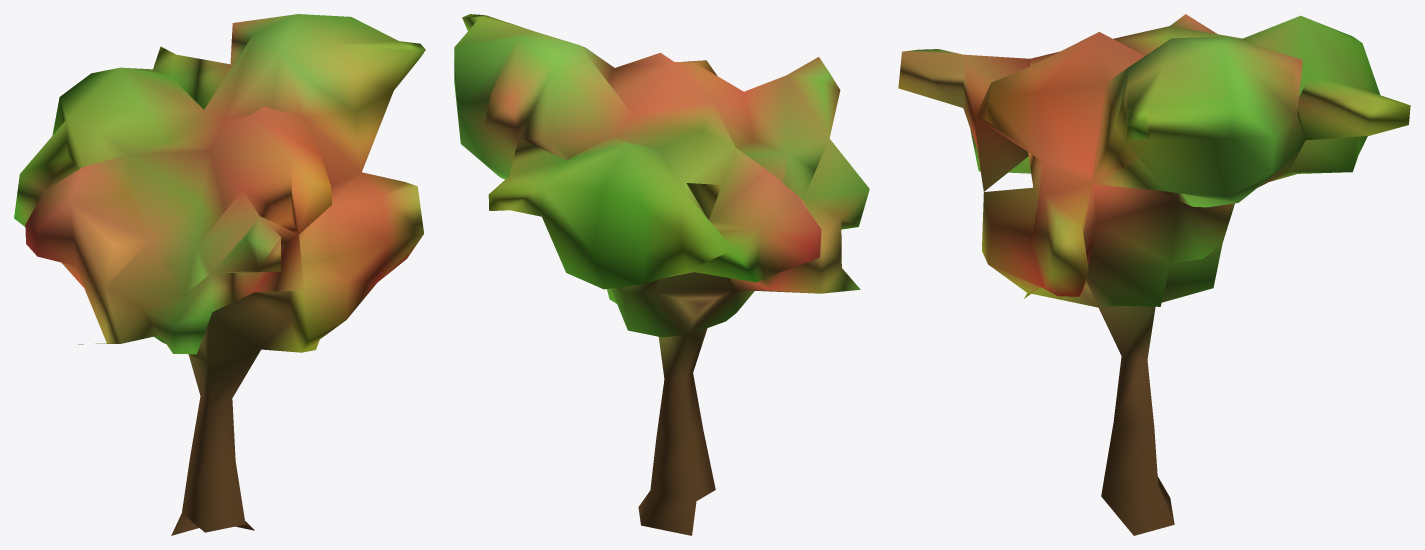
The model's file is canopy-tree-109-lod3.obj.
3 views of the same model, side by side, from view 1: azimuth 30°, elevation 25°; view 2: azimuth 150°, elevation 25°; view 3: azimuth 270°, elevation 25° (orthographic). The views are drawn at different scales.
Parts seen in each view (by area): view 1: simplified; view 2: simplified; view 3: simplified.
Part boxes in pixels (x1,y1,x2,y2): simplified: (14, 14, 425, 535); simplified: (454, 14, 869, 535); simplified: (898, 14, 1410, 535).
Size of the model in its own units: 321 by 390 by 338.
